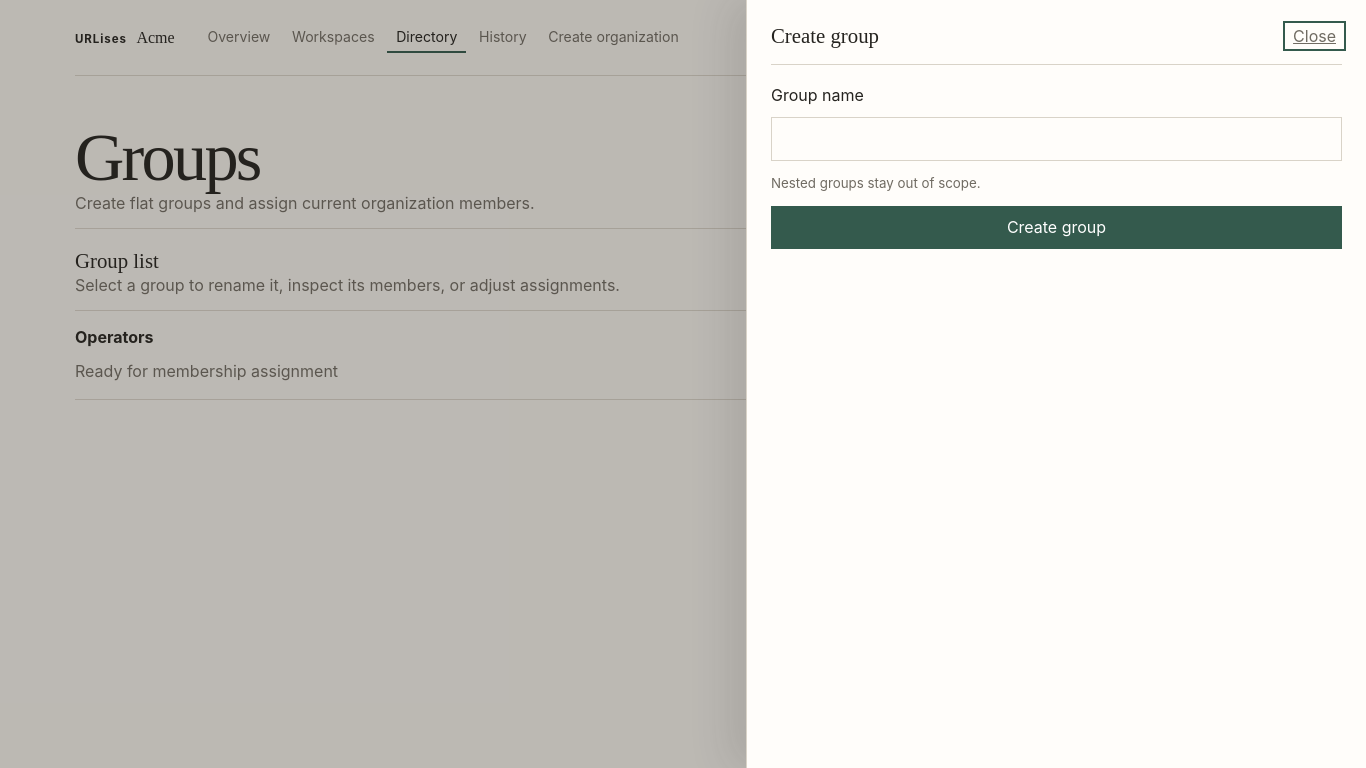
Test case: groups page › preserves the current group state when create fails
Check: the text "Operators" is shown, box [75,326,154,346]
Type "Unavailable" into the field named "new group name" at (1056, 139), box [771,117,1342,161]
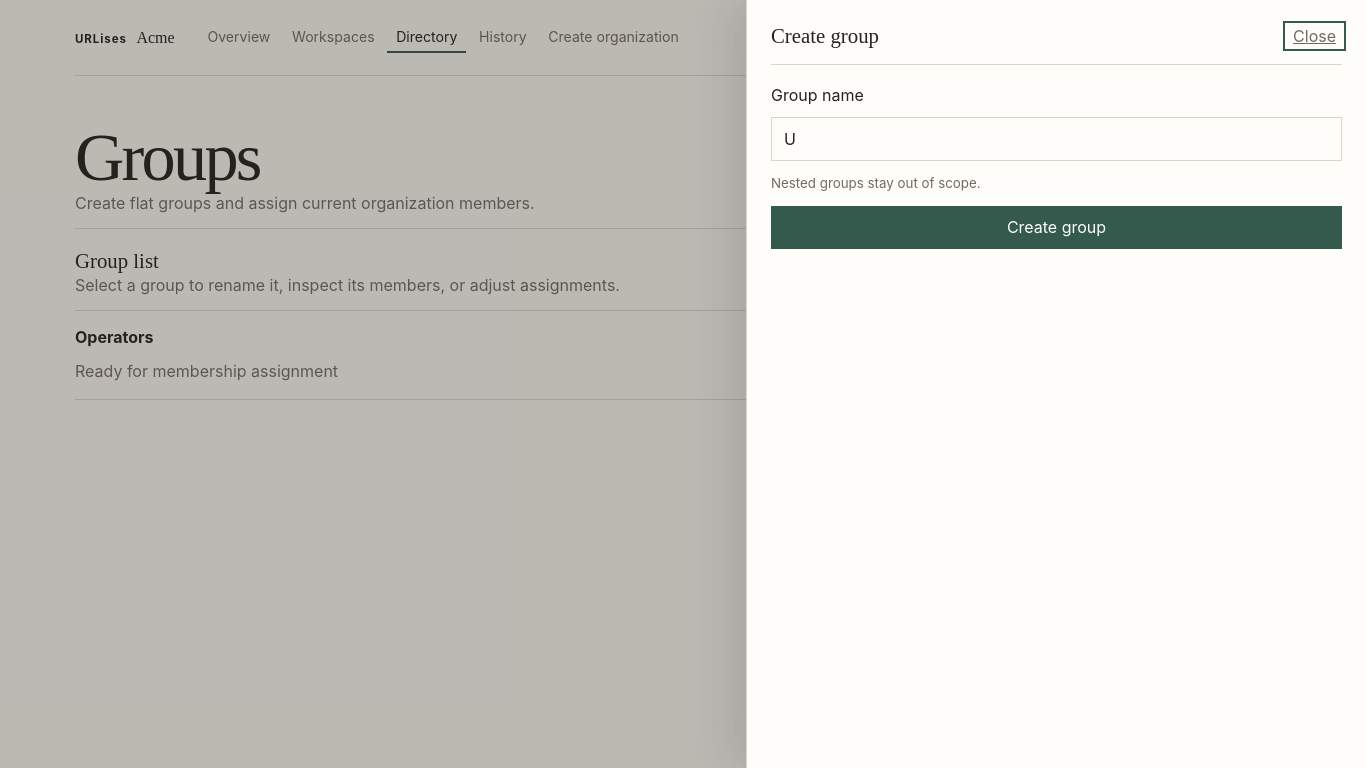
Click the button "Create group" at (1056, 227), box [771,206,1342,249]
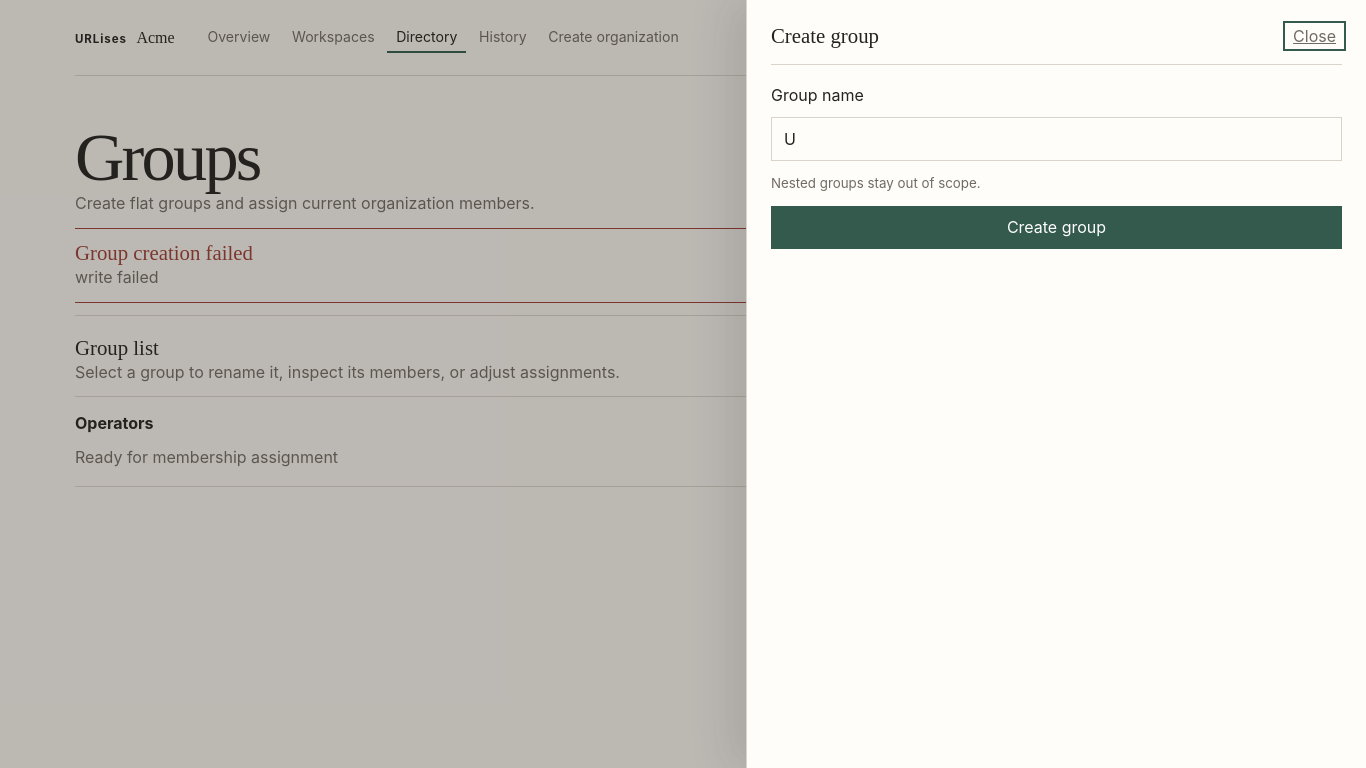
Check: the text "Operators" is shown, box [75,413,154,433]
Check: the heading "Group creation failed" is shown, box [75,241,253,264]
